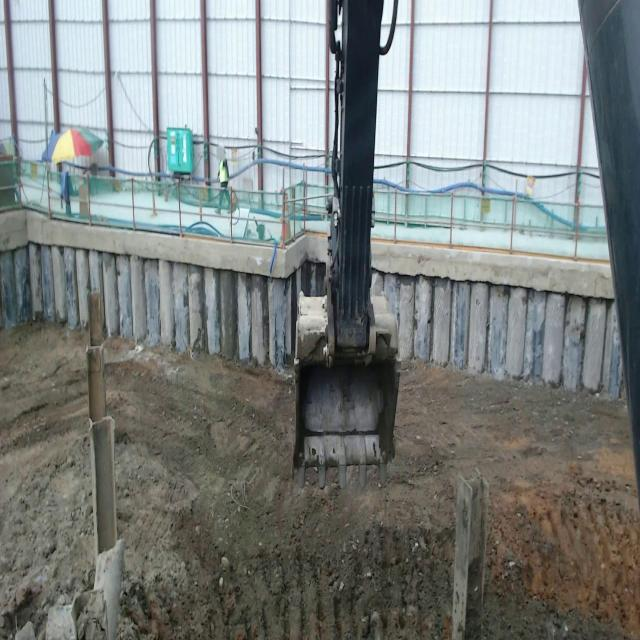white-sand: (105, 340, 640, 639), (0, 325, 94, 639)
